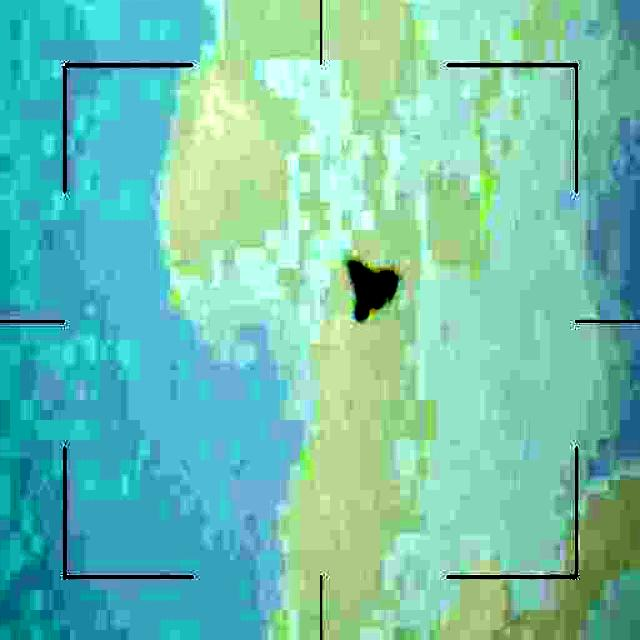bird: (335, 254, 402, 322)
